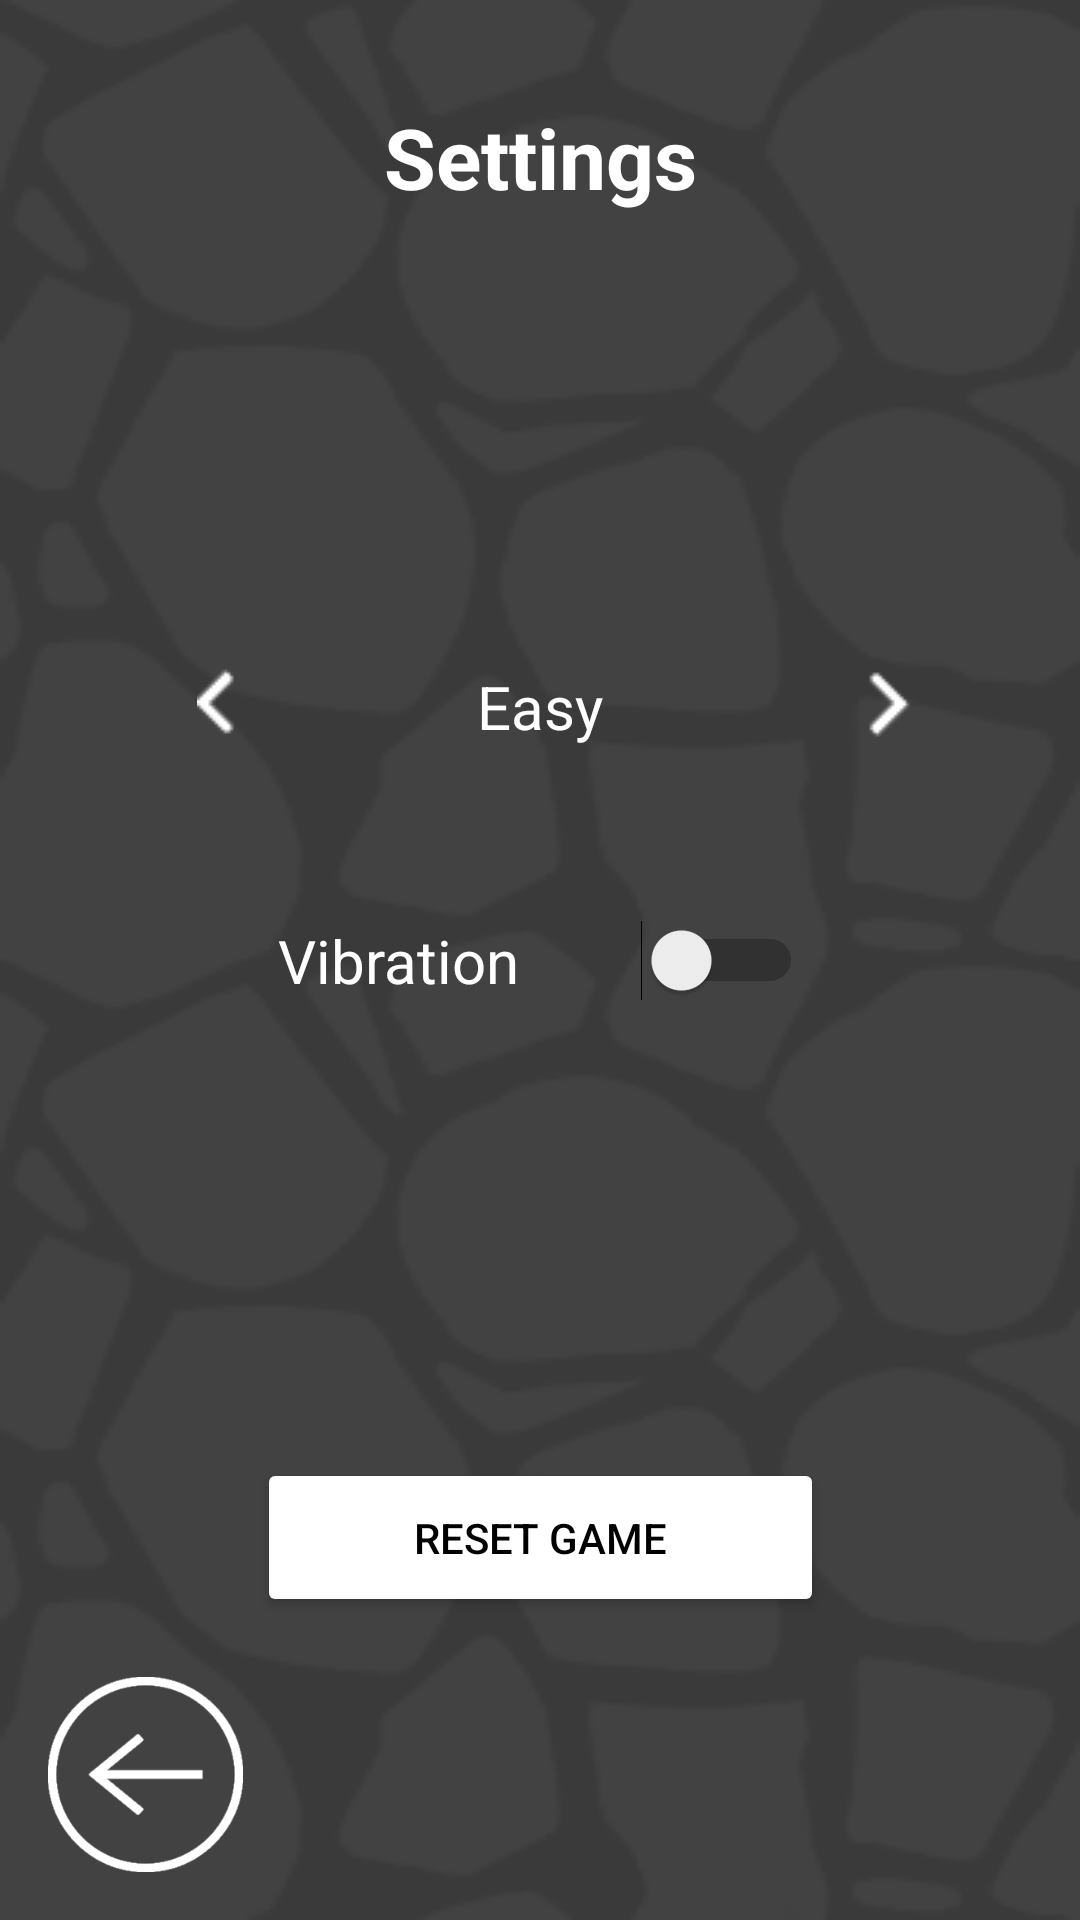

Screen size 1080w x 1920h. Icon name, then its box in pixels as region(x1, y1, x2, y2):
last difficulty: region(197, 670, 234, 734)
next difficulty: region(869, 672, 909, 736)
